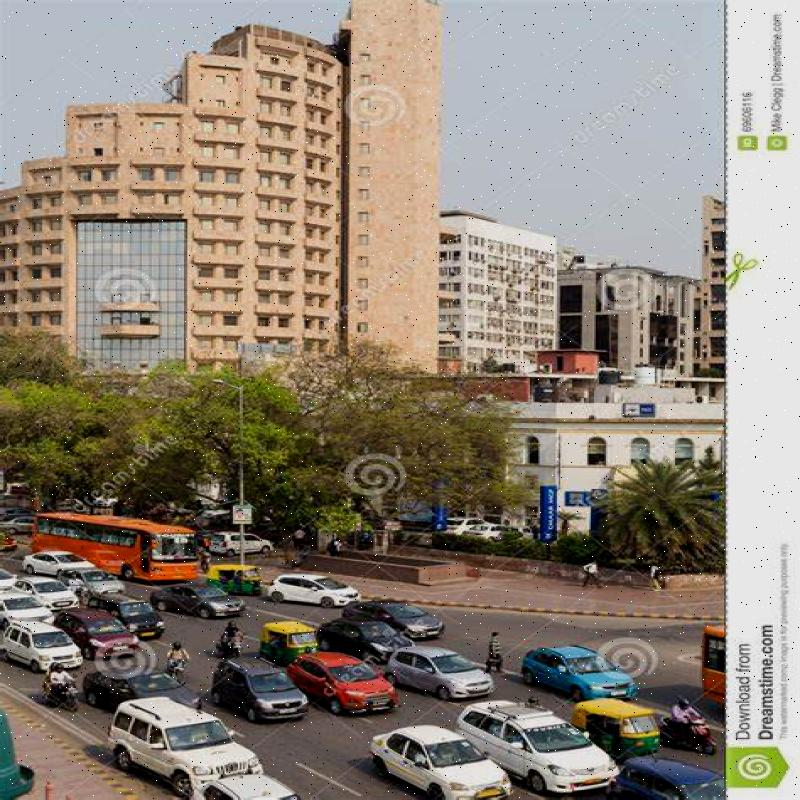auto: (262, 612, 323, 658), (206, 552, 255, 596)
bike: (37, 681, 100, 716), (159, 657, 192, 696)
bus: (20, 500, 217, 586)
car: (96, 693, 260, 793), (364, 724, 501, 800), (476, 697, 593, 785), (280, 644, 400, 710), (516, 639, 636, 694), (220, 650, 305, 726), (401, 624, 485, 698)
